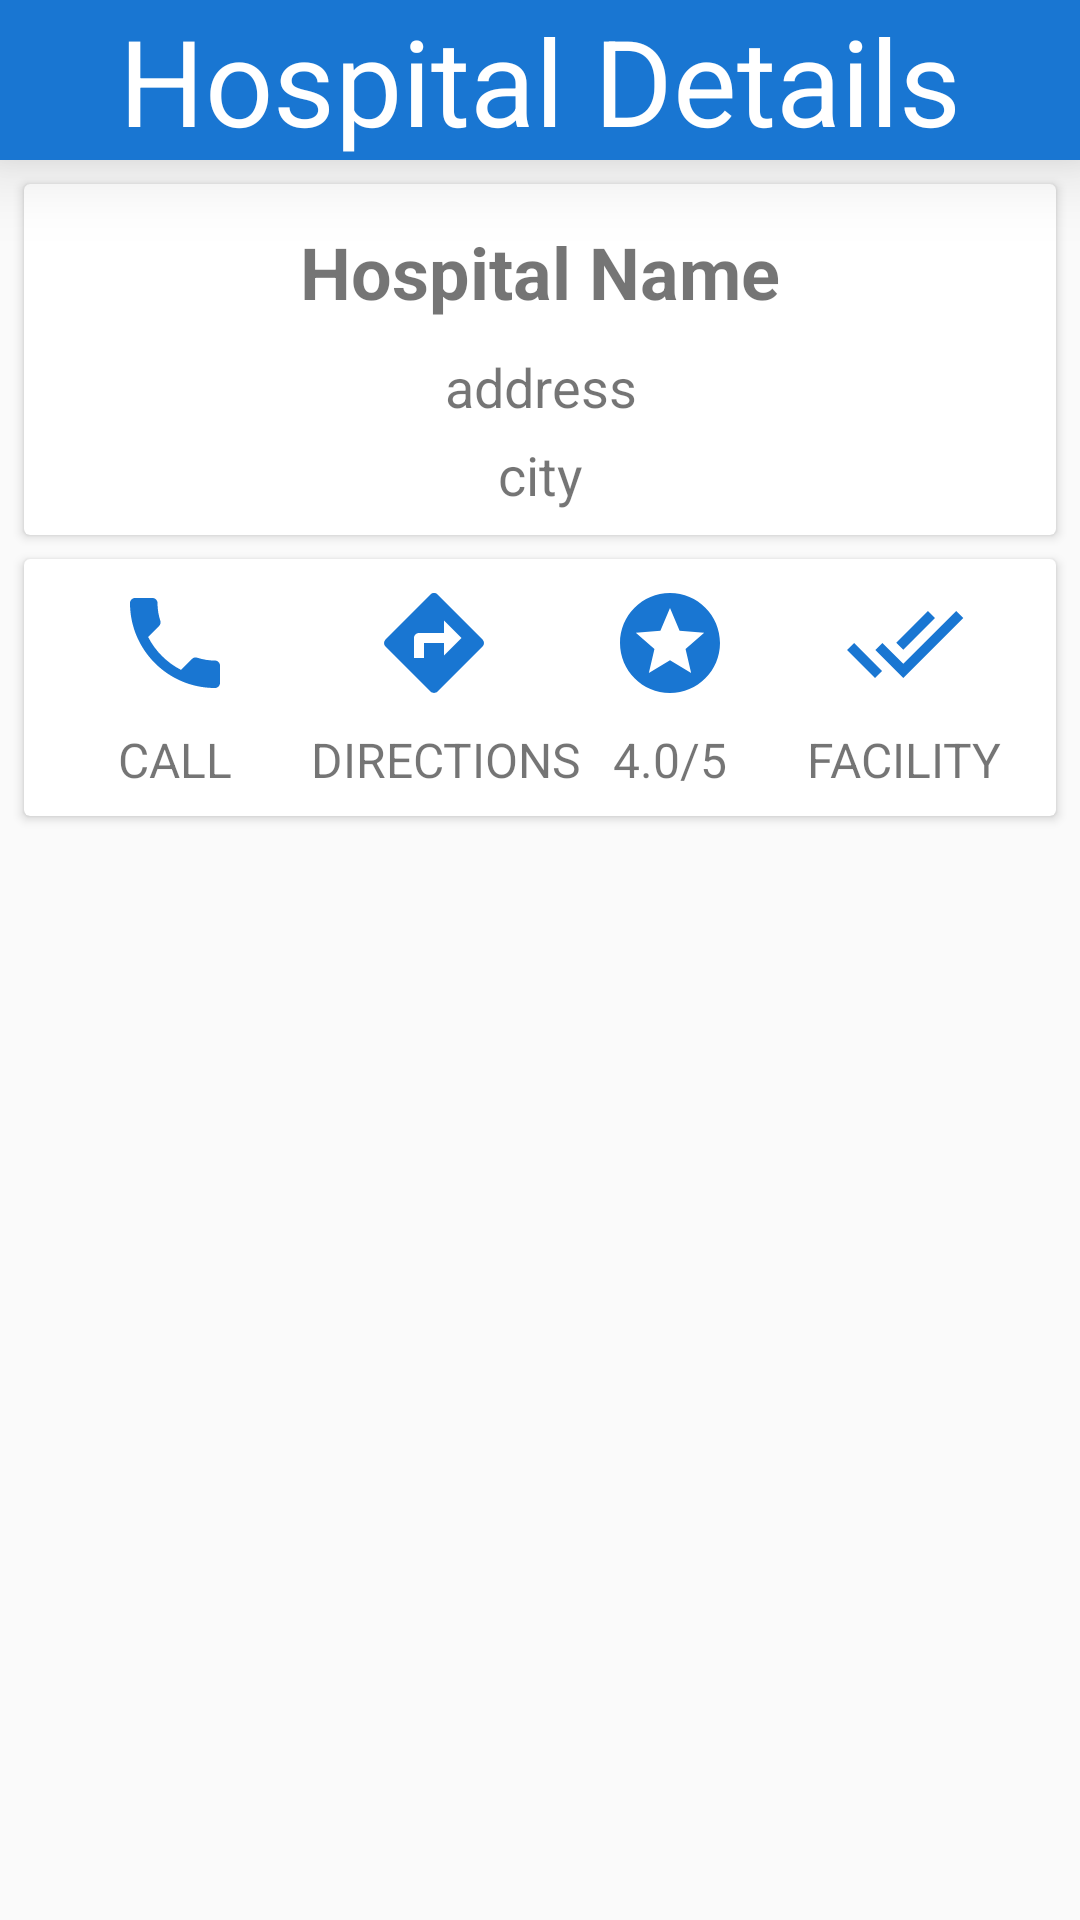

Icons on this 1080×1920 Android screen, each with its box as (x1, y1, x2, y2):
done all: (847, 611, 963, 678)
stars: (620, 593, 720, 693)
